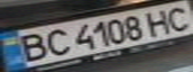0: (106, 16, 130, 45)
1: (90, 19, 112, 47)
4: (72, 20, 96, 51)
8: (121, 12, 148, 41)
B: (9, 29, 51, 63)
C: (160, 2, 193, 33), (39, 27, 72, 57)
H: (139, 7, 175, 36)
